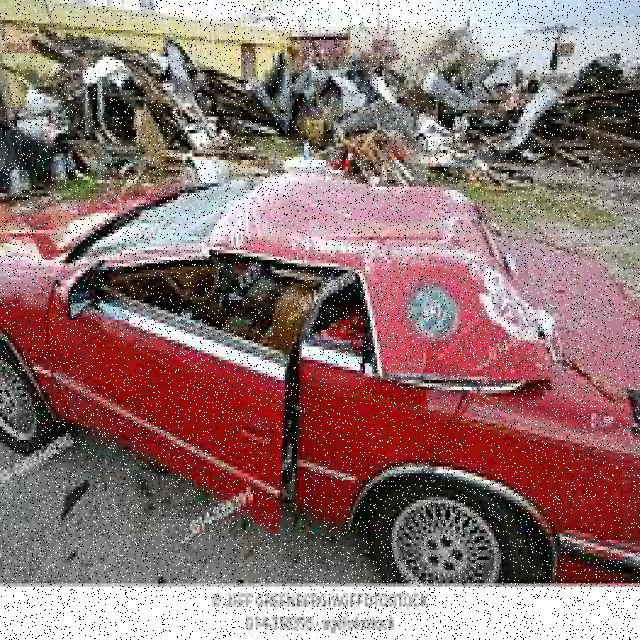roof-dent: (219, 173, 528, 316)
